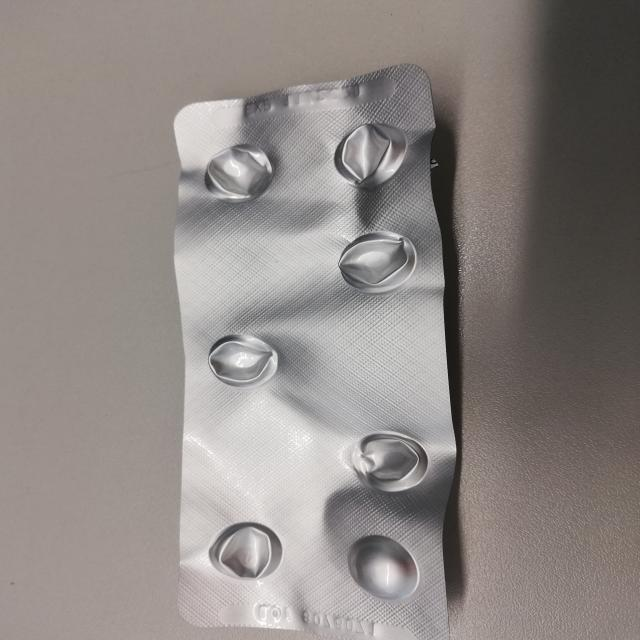Empty: (331, 228, 426, 296), (341, 425, 433, 494), (329, 120, 416, 192), (194, 140, 287, 207), (202, 517, 290, 583), (200, 326, 285, 393)
Pill: (342, 530, 424, 606)
